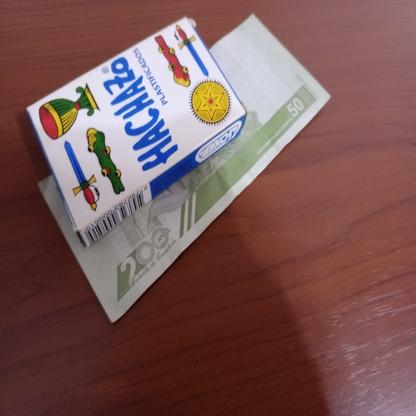fifty-back-vef: (35, 11, 332, 324)
